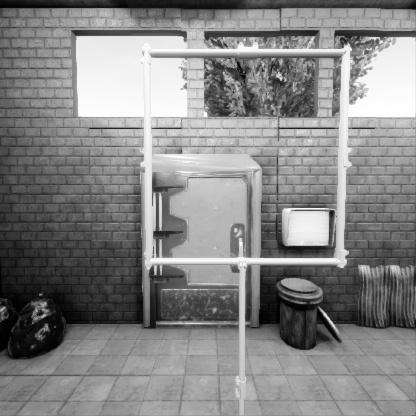gate: (139, 157, 367, 382)
